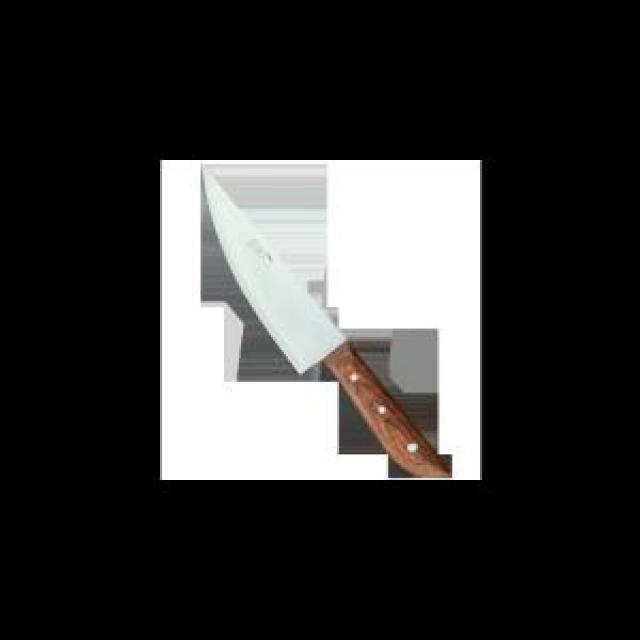knife: (200, 166, 454, 479)
